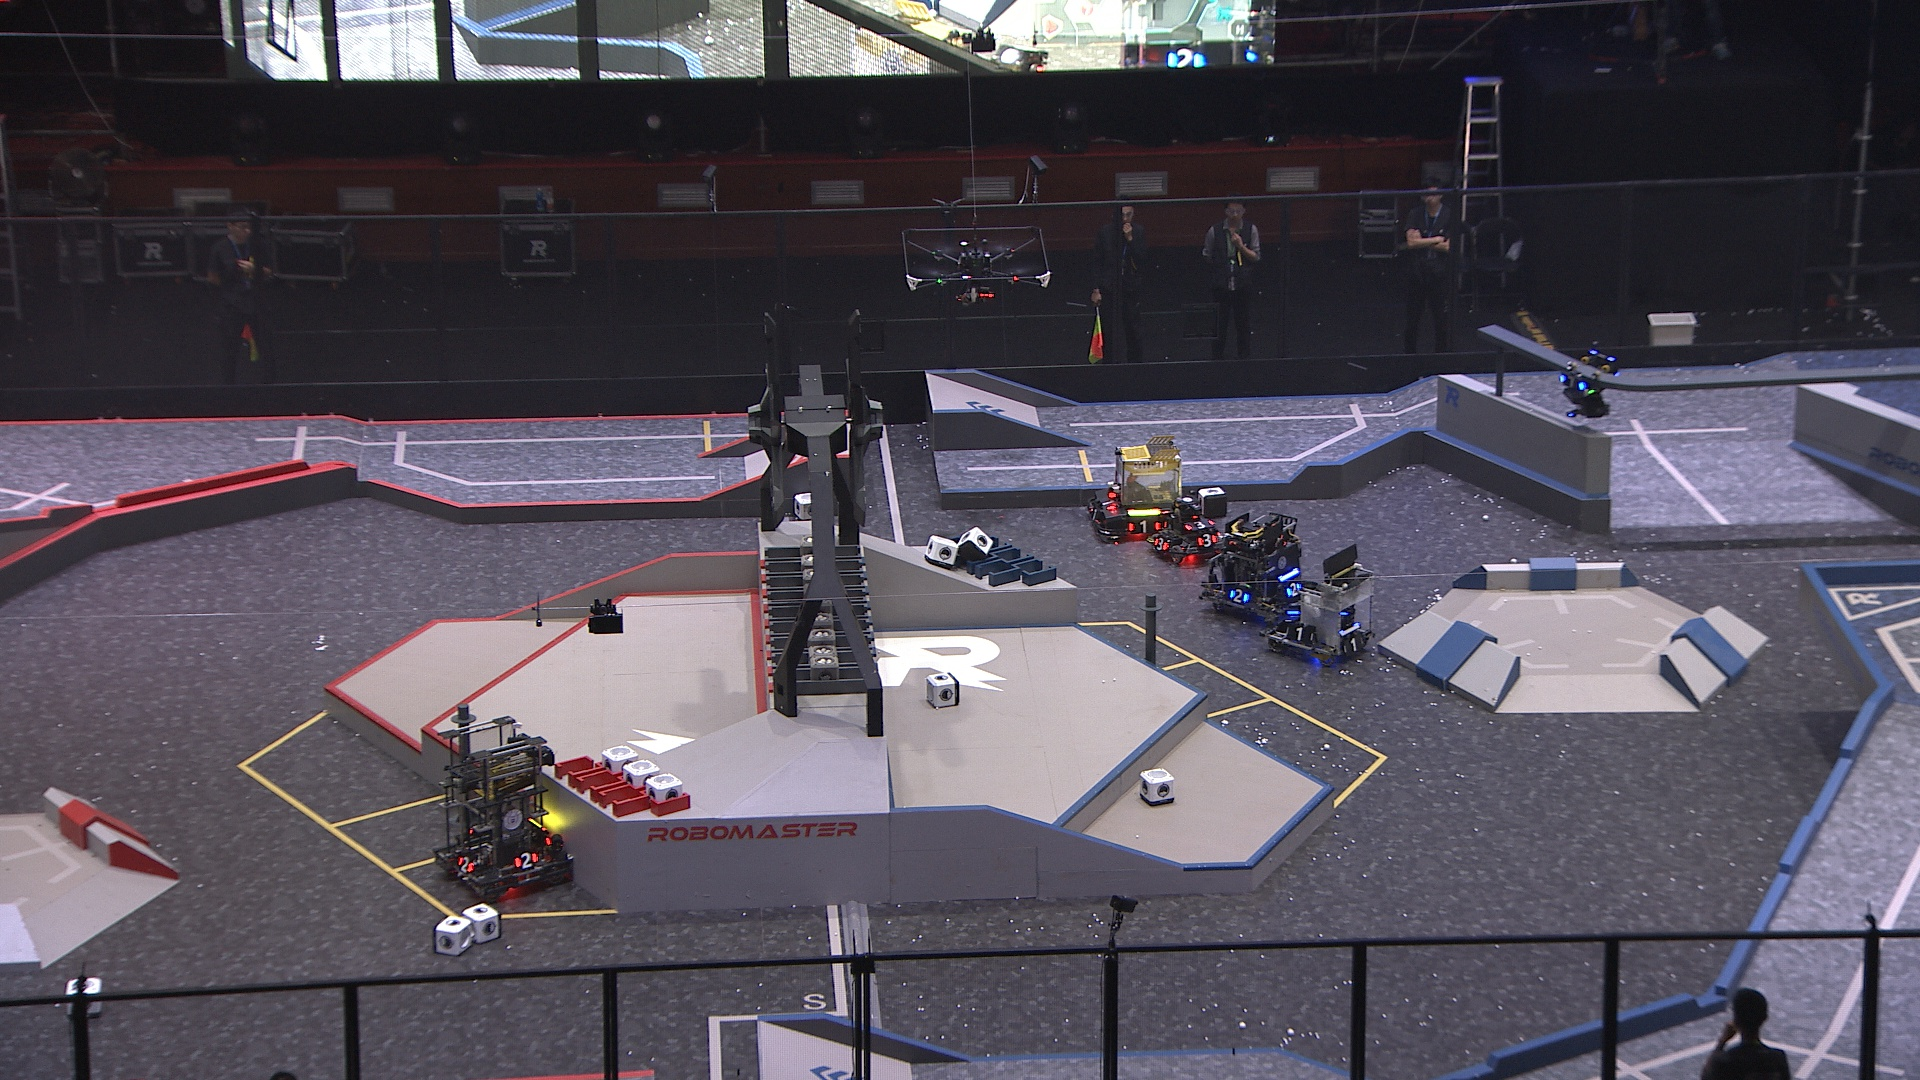armor: (510, 851, 541, 872), (1225, 585, 1255, 607), (1560, 371, 1588, 392), (1286, 626, 1315, 645), (1129, 520, 1162, 535), (1087, 502, 1102, 527), (1342, 636, 1364, 654), (1196, 531, 1218, 549), (1153, 535, 1171, 555), (458, 853, 475, 874), (1100, 495, 1117, 514), (1282, 580, 1302, 597), (1185, 518, 1211, 531), (1280, 613, 1298, 632)
car: (433, 716, 575, 901), (1263, 543, 1371, 671), (1200, 506, 1313, 624), (1083, 438, 1189, 541), (1145, 484, 1230, 564)
watcher: (1555, 348, 1625, 419)
